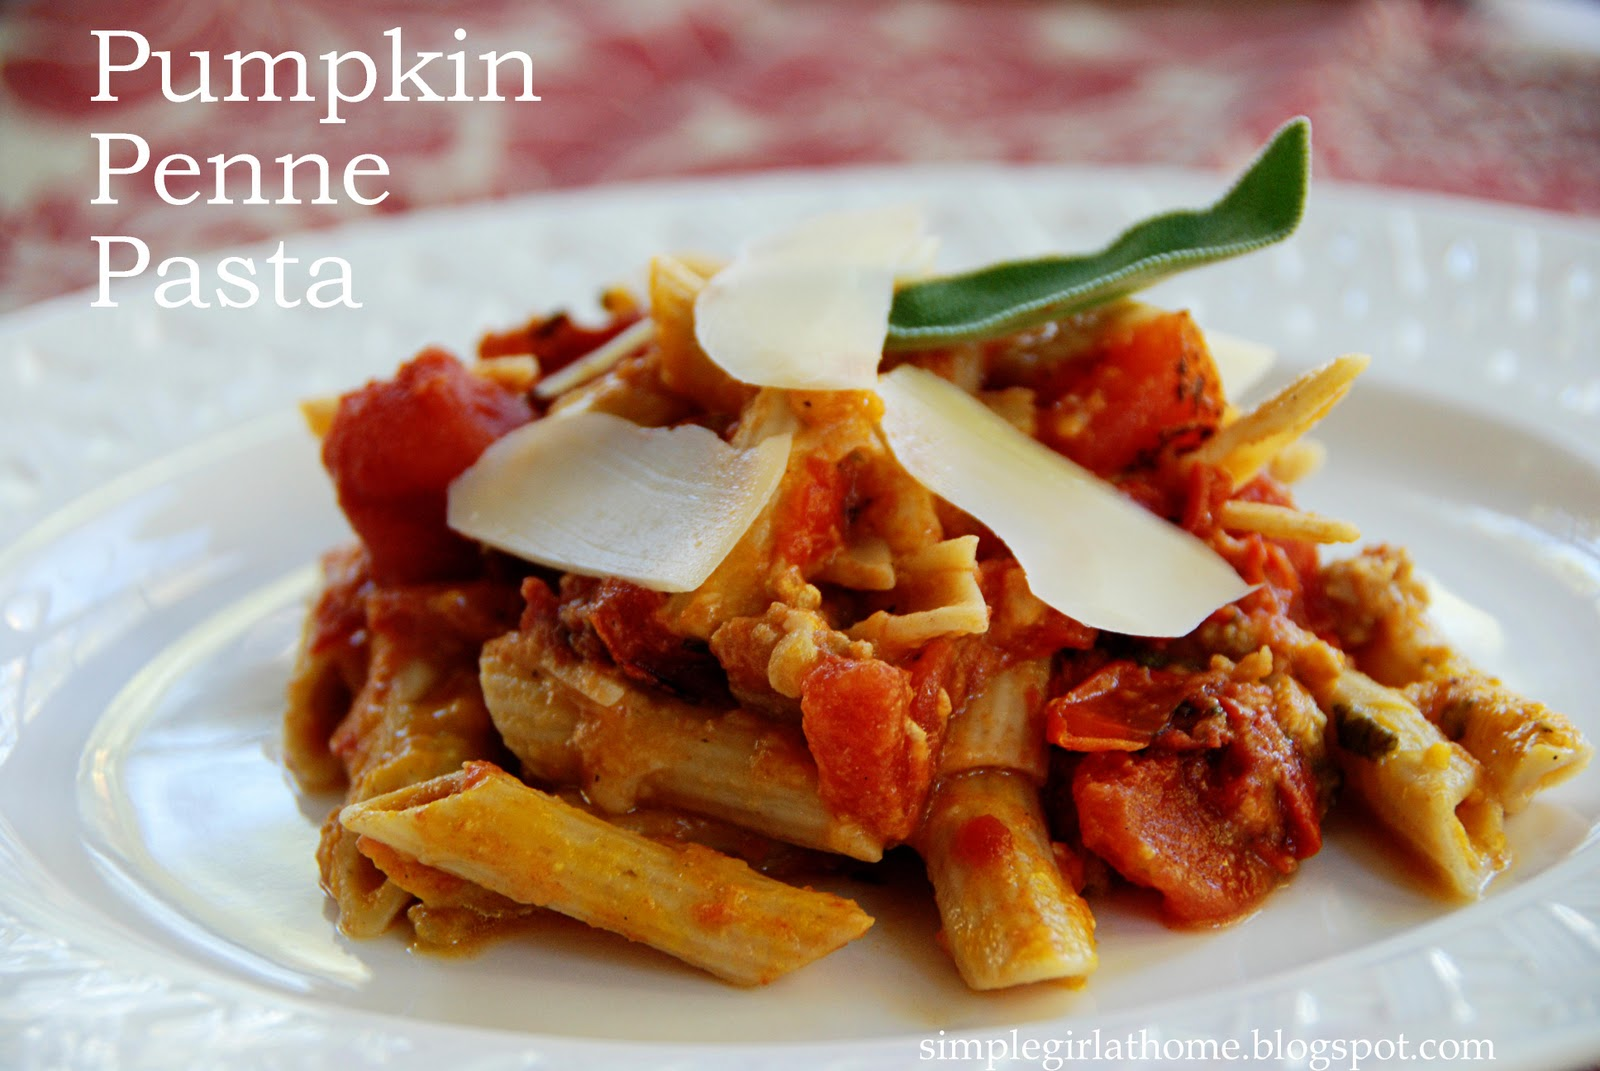plain spaghetti: (392, 675, 844, 963)
